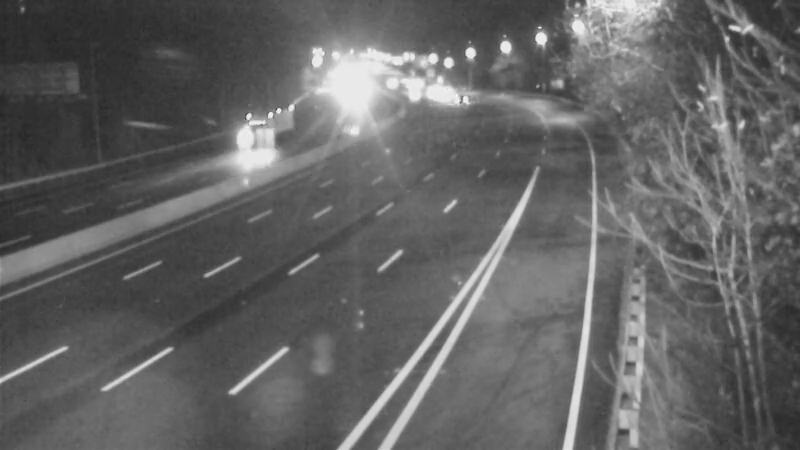vehicle: (420, 69, 470, 119), (430, 75, 480, 125), (223, 115, 273, 165)
